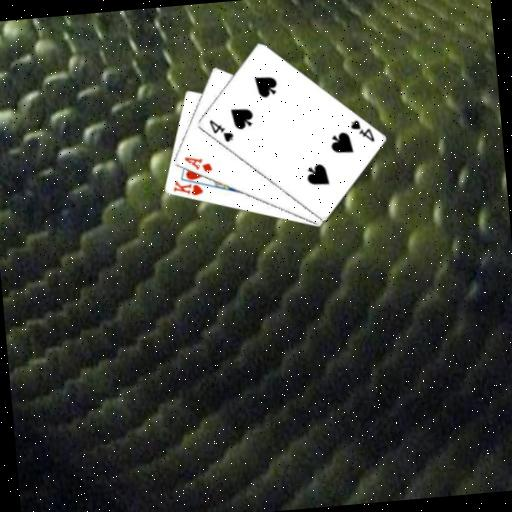4S: (206, 115, 236, 146), (346, 115, 376, 145)
AD: (181, 152, 214, 176)
KH: (169, 175, 205, 199)
